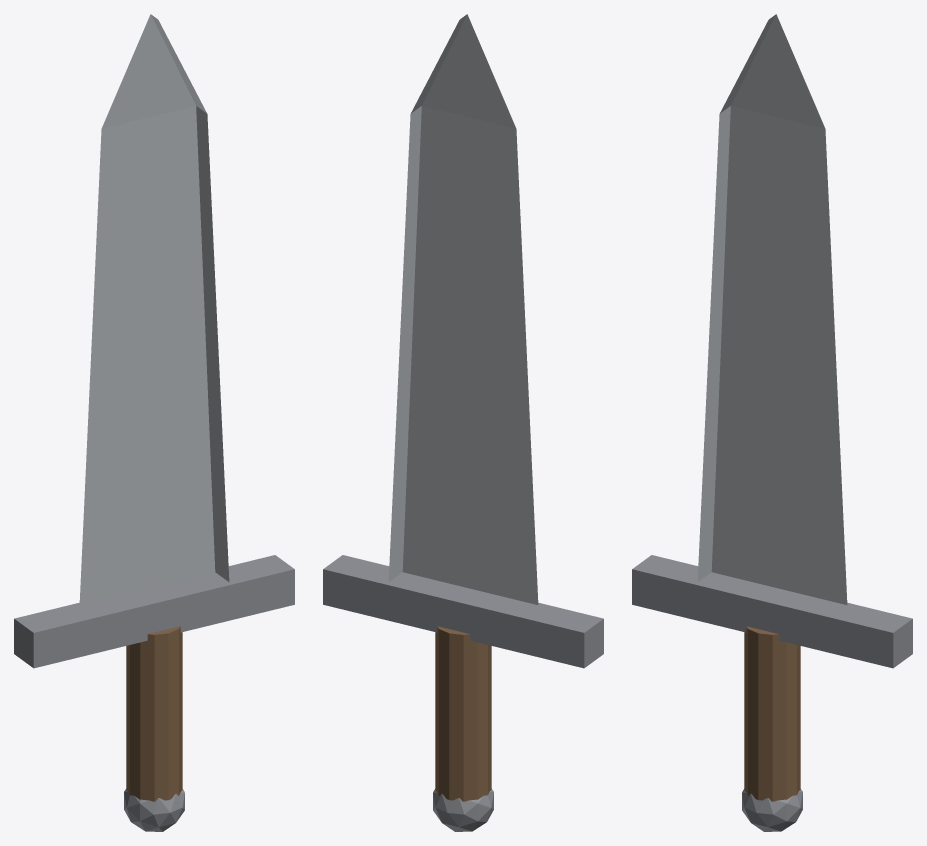
File: broadsword.glb
3 renders of one model, left to right at view 1: azimuth 30°, elevation 25°; view 2: azimuth 150°, elevation 25°; view 3: azimuth 330°, elevation 25°, orthographic.
Visible parts, largest first — view 1: sword_0_0, sword_0_1, sword_0_2, sword_0_3; view 2: sword_0_0, sword_0_1, sword_0_2, sword_0_3; view 3: sword_0_0, sword_0_1, sword_0_2, sword_0_3.
Part boxes in pixels (x1,y1,x2,y2): sword_0_0: [79, 14, 229, 604]; sword_0_1: [14, 555, 294, 668]; sword_0_2: [126, 626, 182, 801]; sword_0_3: [124, 789, 184, 831]; sword_0_0: [388, 14, 538, 604]; sword_0_1: [323, 555, 603, 668]; sword_0_2: [435, 626, 491, 801]; sword_0_3: [433, 789, 493, 831]; sword_0_0: [697, 14, 847, 604]; sword_0_1: [632, 555, 912, 668]; sword_0_2: [744, 626, 800, 801]; sword_0_3: [742, 789, 802, 831].
Size of the model in its own units: 1.38 by 4.12 by 0.2944.
